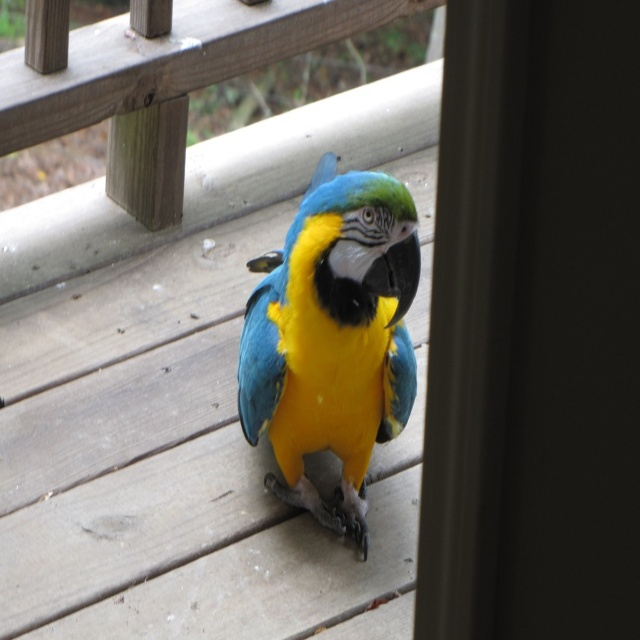Parrot: (234, 150, 418, 563)
